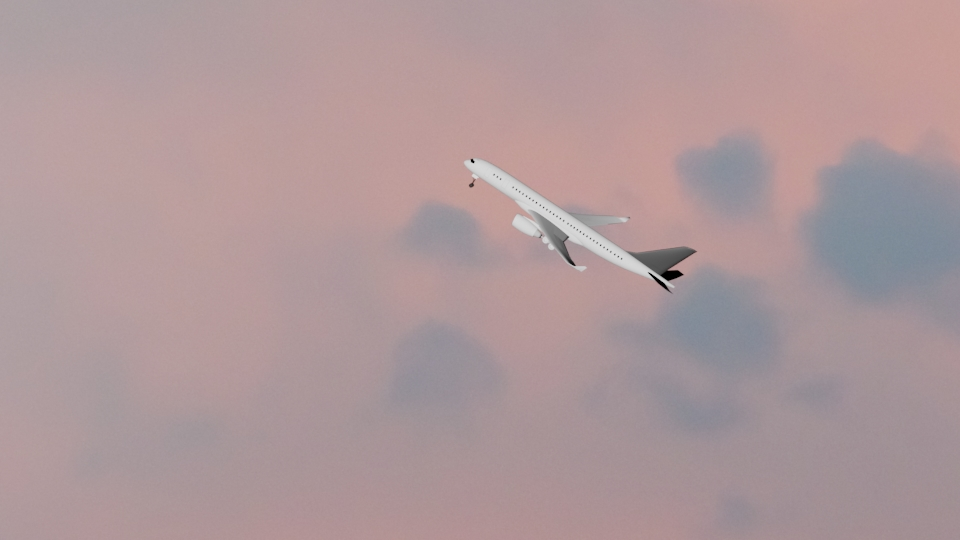plane: (464, 156, 697, 294)
